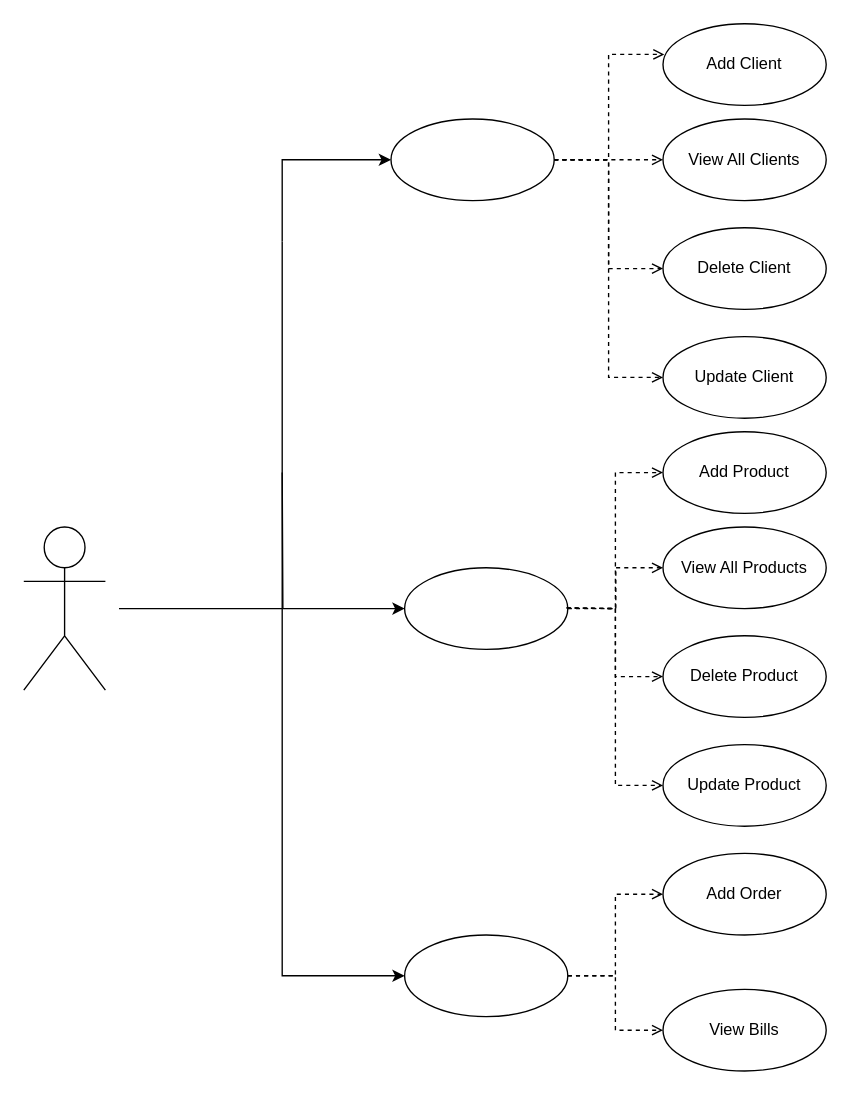
This 850x1095 diagram has some shape labels left out. The box of each missing label's shape, as (x1, y1, x2, y2) in pixels:
Open Client Window: (390, 118, 554, 201)
Open Order Window: (403, 934, 568, 1017)
Open Product Window: (403, 566, 568, 649)
User: (22, 526, 105, 690)
